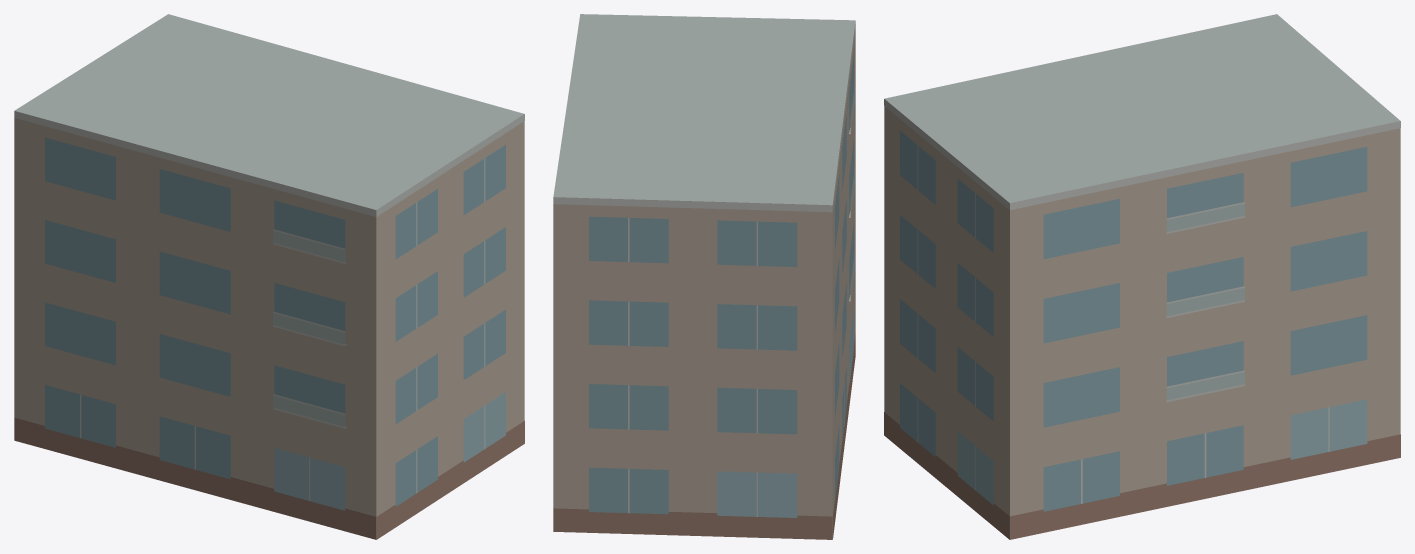
File: survey-upis-32741311.glb
3 renders of one model, left to right at view 1: azimuth 30°, elevation 25°; view 2: azimuth 150°, elevation 25°; view 3: azimuth 270°, elevation 25°, orthographic. The views are drawn at different scales.
Parts seen in each view (by area): view 1: survey-upis-32741311.tmp; view 2: survey-upis-32741311.tmp; view 3: survey-upis-32741311.tmp.
Part boxes in pixels (box(x1,y1,x2,y2)): survey-upis-32741311.tmp: box(14, 14, 524, 539); survey-upis-32741311.tmp: box(553, 14, 855, 539); survey-upis-32741311.tmp: box(884, 14, 1400, 539).
Bounding box in the file's own units: 13.99 × 11.6 × 16.14.
